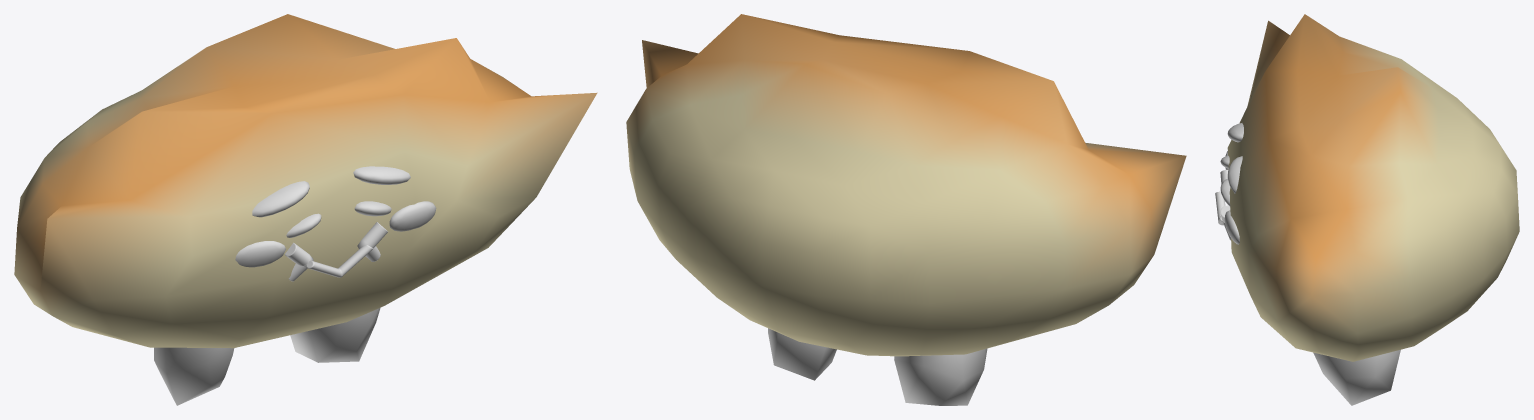
File: yakigyoza.fbx
3 views of the same model, side by side, from view 1: azimuth 30°, elevation 25°; view 2: azimuth 150°, elevation 25°; view 3: azimuth 270°, elevation 25° (orthographic). The views are drawn at different scales.
Visible parts, largest first — view 1: UV球 (×2), クアッドスフィア 1, UV球 2, チューブ 4, UV球 1, チューブ; view 2: UV球, クアッドスフィア 1; view 3: UV球 (×2), クアッドスフィア 1, UV球 2, UV球 1.
Boxes of the visible parts, x1,y1,x2,y2 form: UV球 (×2): [14, 14, 597, 348]; クアッドスフィア 1: [154, 307, 380, 405]; UV球 2: [235, 201, 436, 267]; チューブ 4: [284, 222, 387, 281]; UV球 1: [286, 201, 391, 237]; チューブ: [306, 245, 373, 277]; UV球: [626, 14, 1186, 356]; クアッドスフィア 1: [768, 328, 987, 405]; UV球 (×2): [1227, 14, 1519, 361]; クアッドスフィア 1: [1313, 349, 1400, 405]; UV球 2: [1224, 151, 1239, 244]; UV球 1: [1220, 155, 1230, 206].
Bounding box in the file's own units: 1.88 × 1.1 × 1.02.
